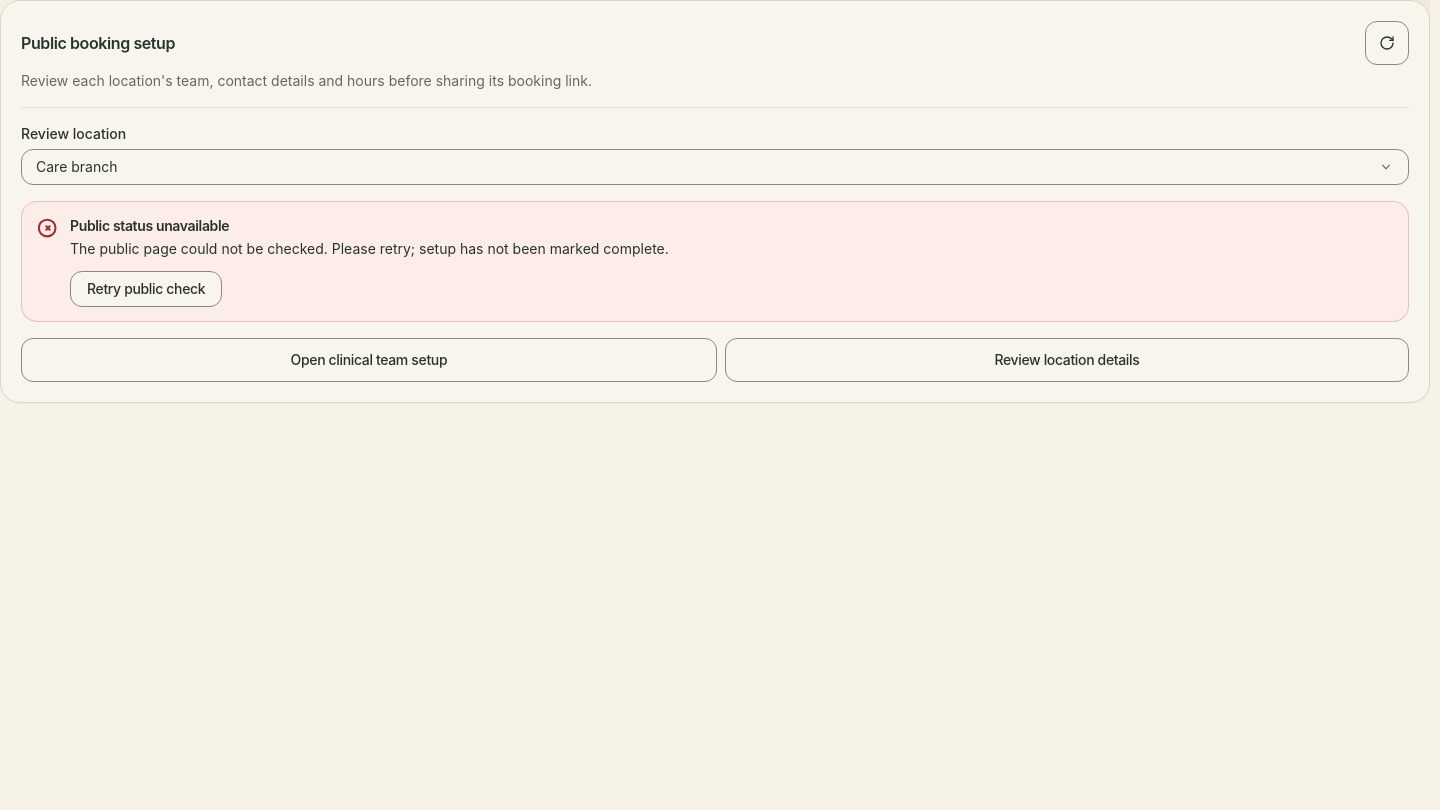
Test: Organization public booking readiness › does not mark an unavailable or foreign public response complete, and recovers by retrying
The image size is (1440, 810).
Expected: the text "Public status unavailable" is shown, [70,217,229,234]
What coordinates should you click on to do the following:
click the button "Retry public check"
I would click on:
 (146, 289)
Its box is [70,271,222,307].
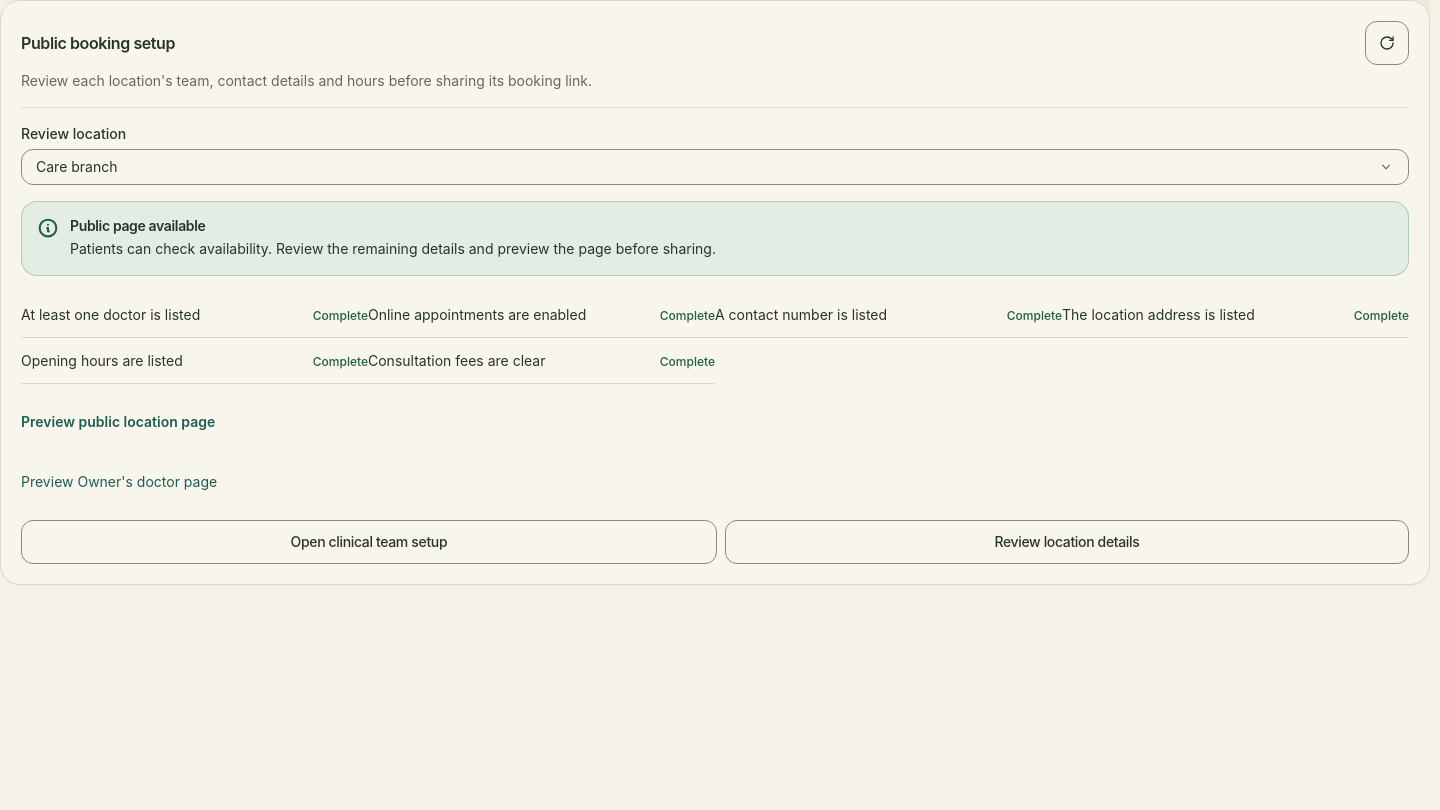
Now the text "Public page available" is shown, box [70,217,206,234]
